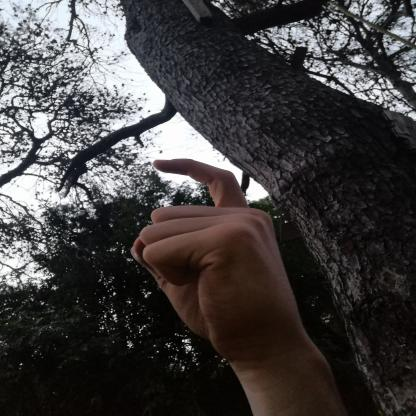RAA: (118, 145, 326, 366)
